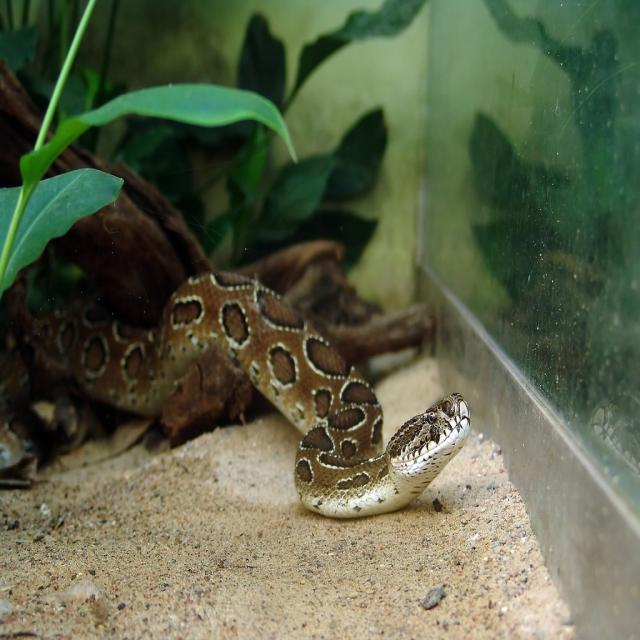Snake: (0, 266, 478, 522)
